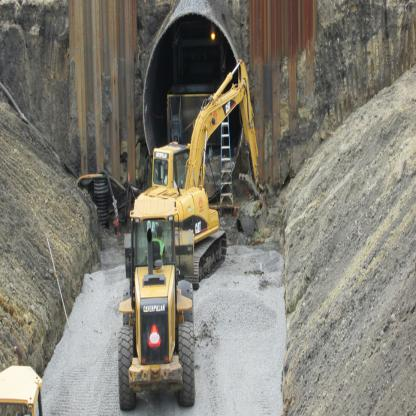bull_dozer/loader/grader: (117, 199, 203, 407)
excavator: (139, 67, 275, 280)
